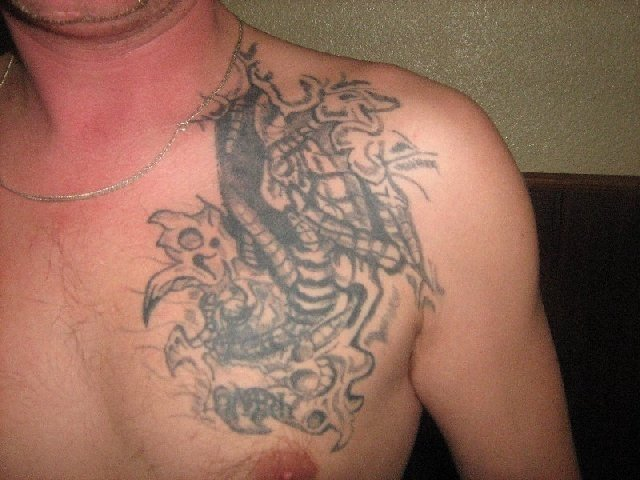tatu6_drakon: (128, 36, 470, 464)
